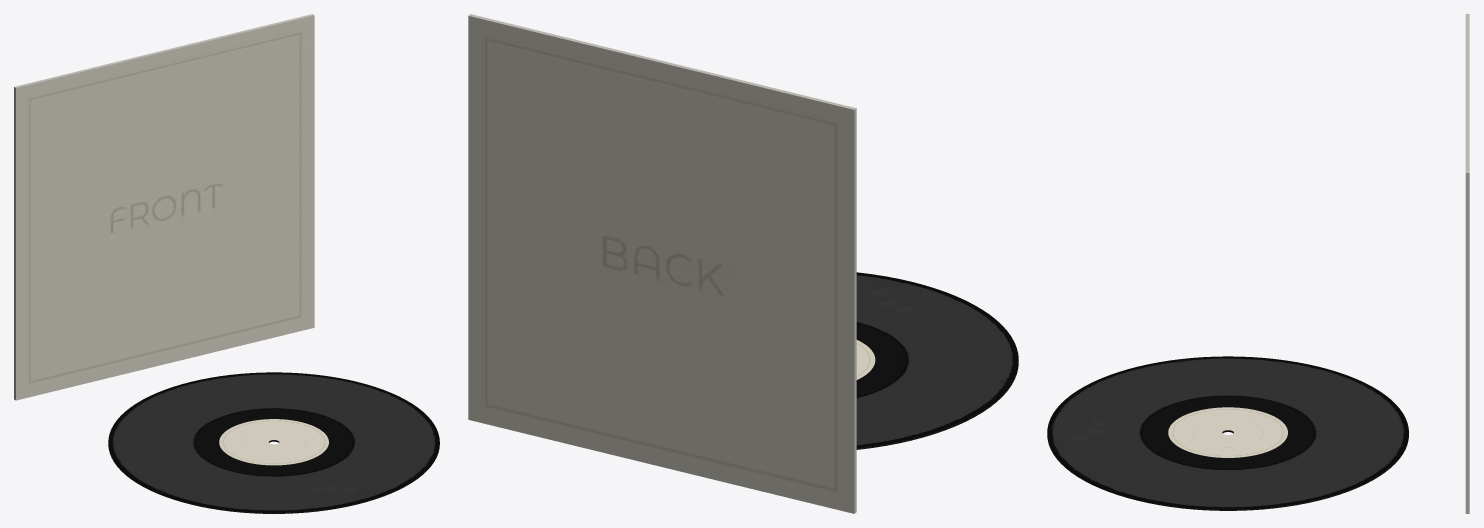
The model's file is vinyl-low.glb.
3 views of the same model, side by side, from view 1: azimuth 30°, elevation 25°; view 2: azimuth 150°, elevation 25°; view 3: azimuth 270°, elevation 25° (orthographic). The views are drawn at different scales.
Parts seen in each view (by area): view 1: SleeveMesh, RecordMesh_Nearby, RecordMesh_Distant, LabelMesh, RecordMesh; view 2: SleeveMesh, RecordMesh_Distant, RecordMesh_Nearby; view 3: RecordMesh_Nearby, RecordMesh_Distant, LabelMesh, SleeveMesh, RecordMesh.
Part boxes in pixels (left/top/right/bottom): SleeveMesh: left=14, top=14, right=314, bottom=400; RecordMesh_Nearby: left=108, top=372, right=439, bottom=513; RecordMesh_Distant: left=108, top=372, right=438, bottom=512; LabelMesh: left=219, top=419, right=328, bottom=465; RecordMesh: left=108, top=440, right=439, bottom=513; SleeveMesh: left=468, top=14, right=856, bottom=513; RecordMesh_Distant: left=856, top=274, right=1017, bottom=446; RecordMesh_Nearby: left=856, top=272, right=1018, bottom=449; RecordMesh_Nearby: left=1047, top=356, right=1408, bottom=510; RecordMesh_Distant: left=1047, top=356, right=1408, bottom=508; LabelMesh: left=1168, top=407, right=1287, bottom=457; SleeveMesh: left=1465, top=14, right=1469, bottom=513; RecordMesh: left=1047, top=430, right=1408, bottom=510.
Bounding box in the file's own units: 0.314 × 0.3142 × 0.3527.
Materials: 6 (5 with a texture image).
